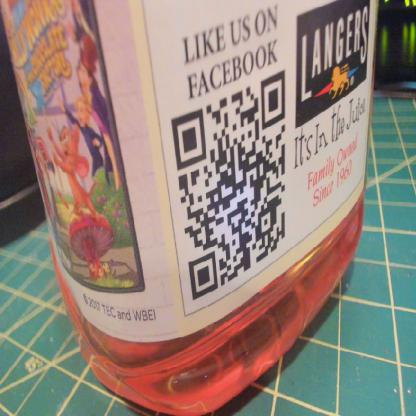qr: (165, 65, 290, 307)
